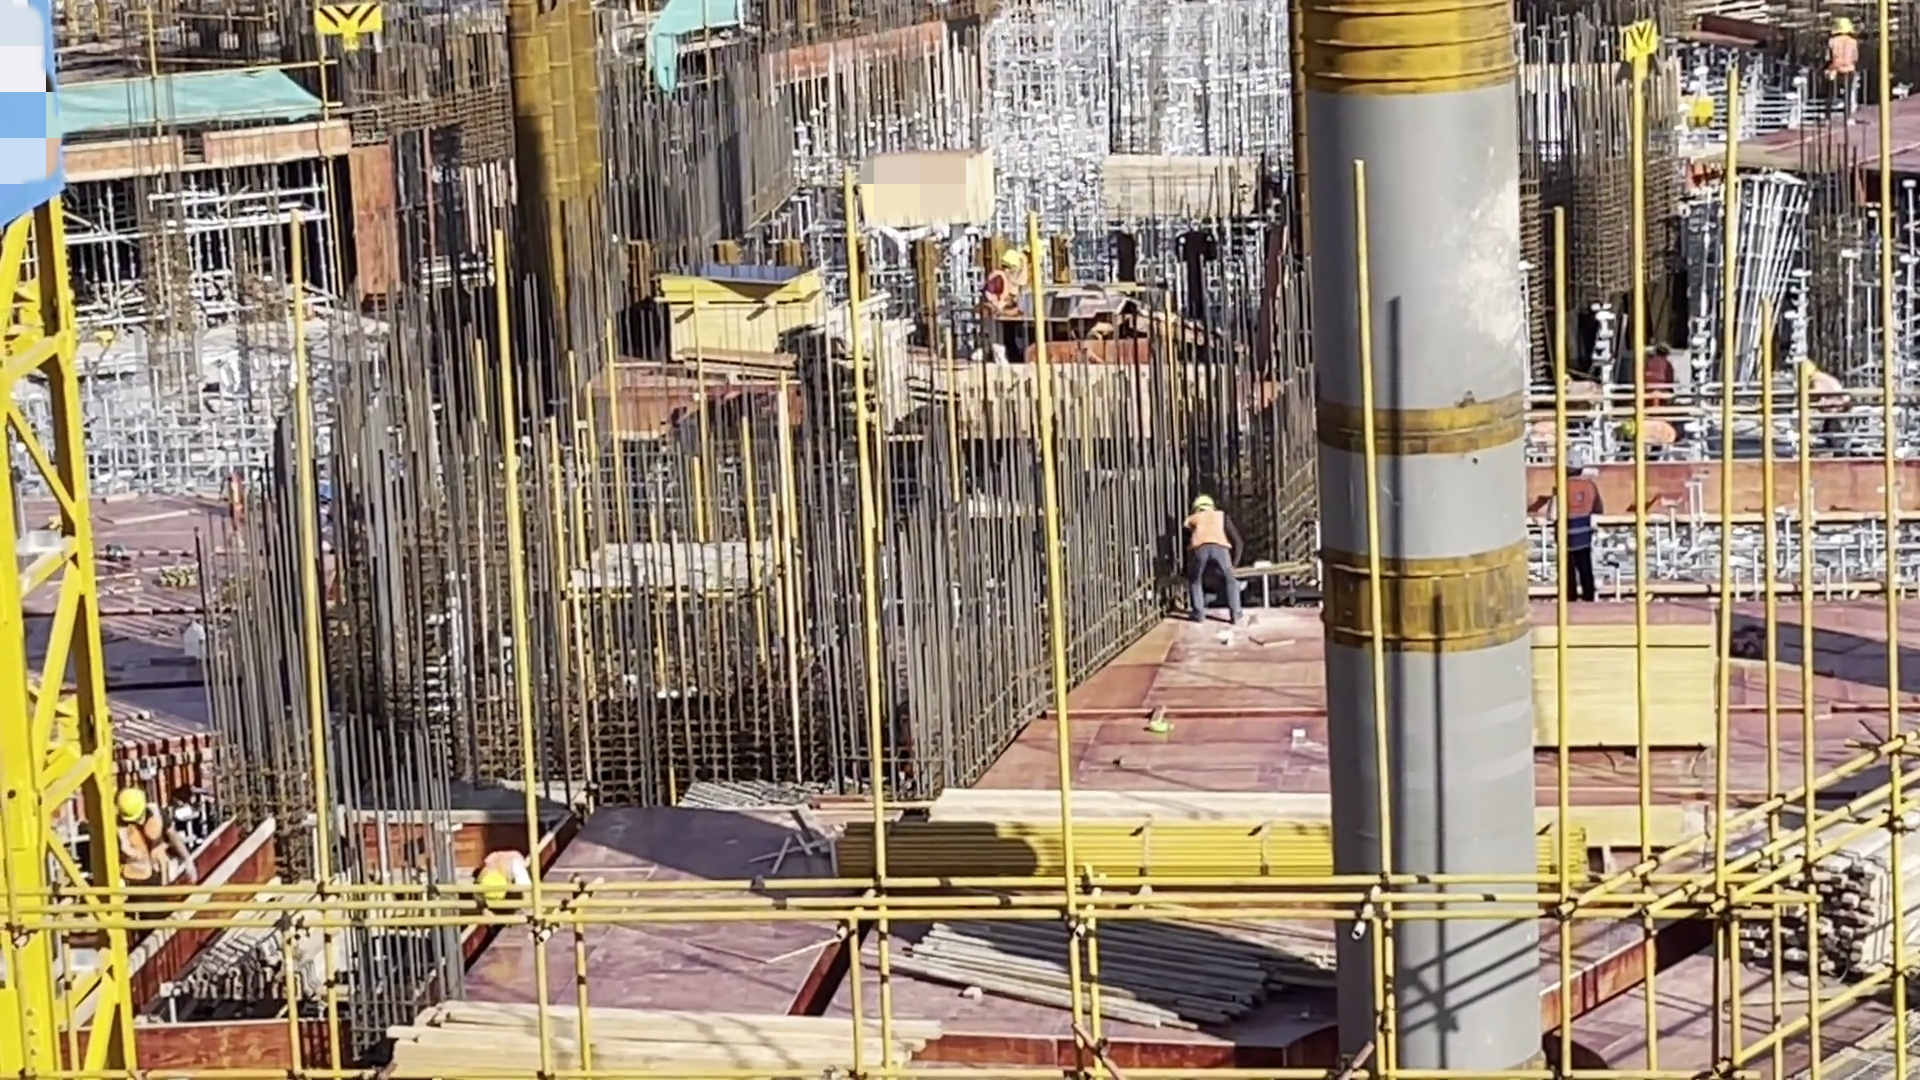helmet: (113, 792, 159, 838), (471, 877, 507, 916), (1182, 486, 1213, 514), (992, 247, 1020, 275), (1829, 16, 1849, 36), (1618, 422, 1636, 443), (1565, 450, 1584, 471)
hook: (298, 1, 391, 61)
person: (1171, 491, 1251, 620), (1538, 450, 1607, 595), (104, 783, 190, 899), (972, 243, 1020, 365), (1815, 14, 1863, 128), (472, 849, 543, 911), (1789, 353, 1846, 422), (1636, 336, 1685, 412), (1613, 411, 1679, 460)
vest: (1541, 475, 1604, 556), (1187, 512, 1236, 547), (1826, 33, 1860, 81)
wood: (893, 881, 1288, 1064), (1701, 768, 1920, 972)
